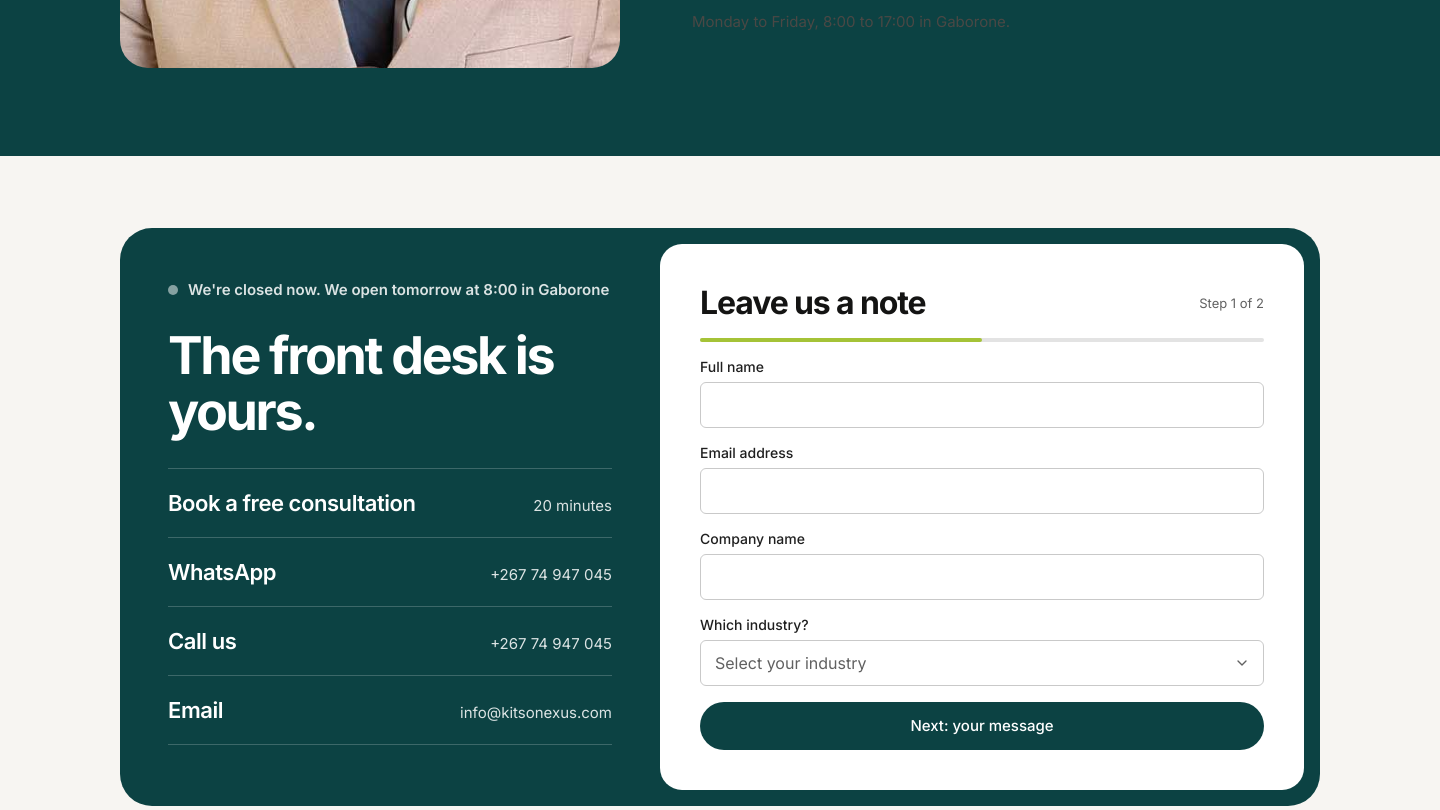
Contact page › says what's wrong beside the box, instead of a dead-end 'didn't send' (owner, 9 Nov 2026)
The width and height of the screenshot is (1440, 810).
(page scrolled)
Type "Neo Molefe" into the field labelled "Full name" at (982, 405), box [700,382,1264,428]
Type "a@b" into the field labelled "Email address" at (982, 491), box [700,468,1264,514]
Type "-" into the field labelled "Company name" at (982, 577), box [700,554,1264,600]
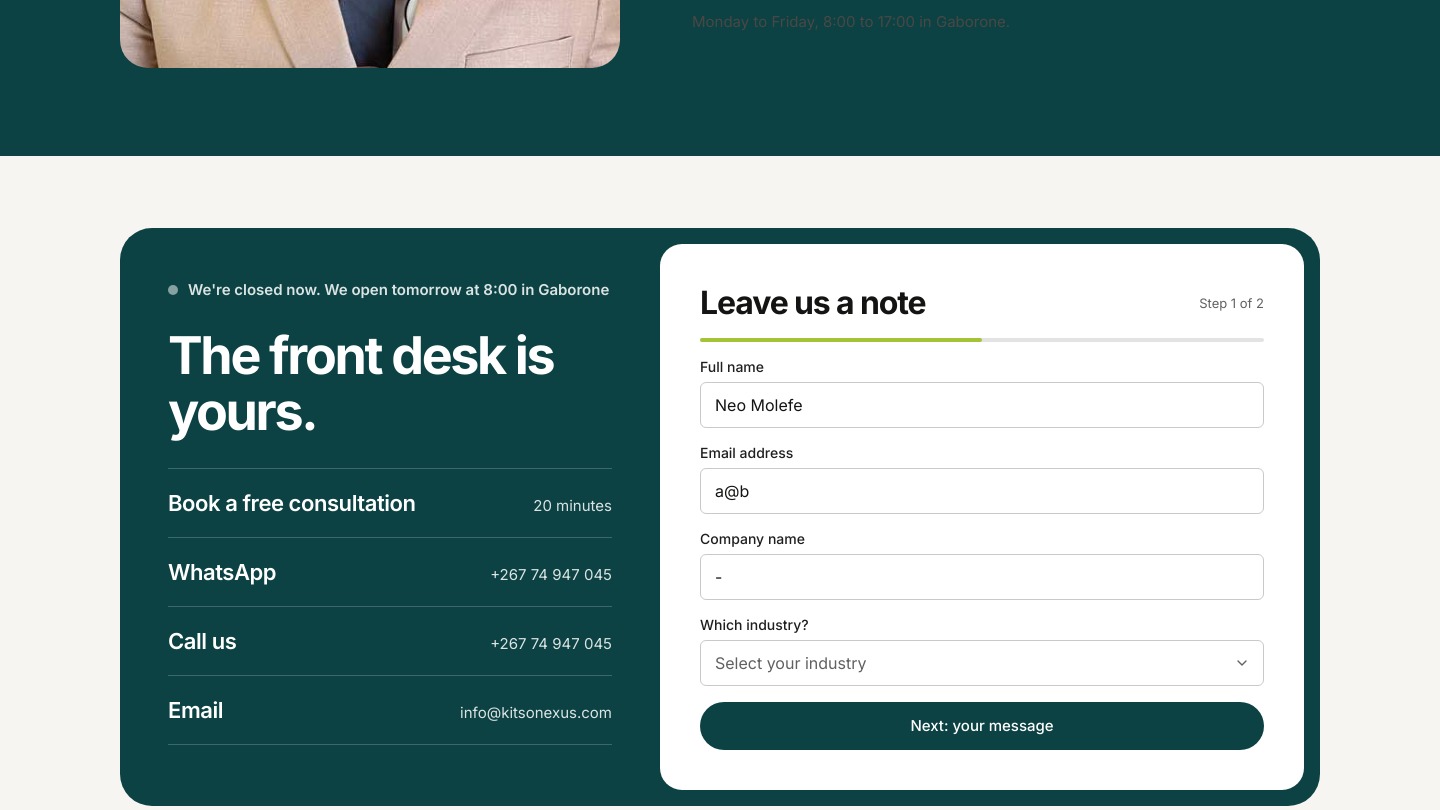
Click the button "Next: your message" at (982, 726), box [700,702,1264,750]
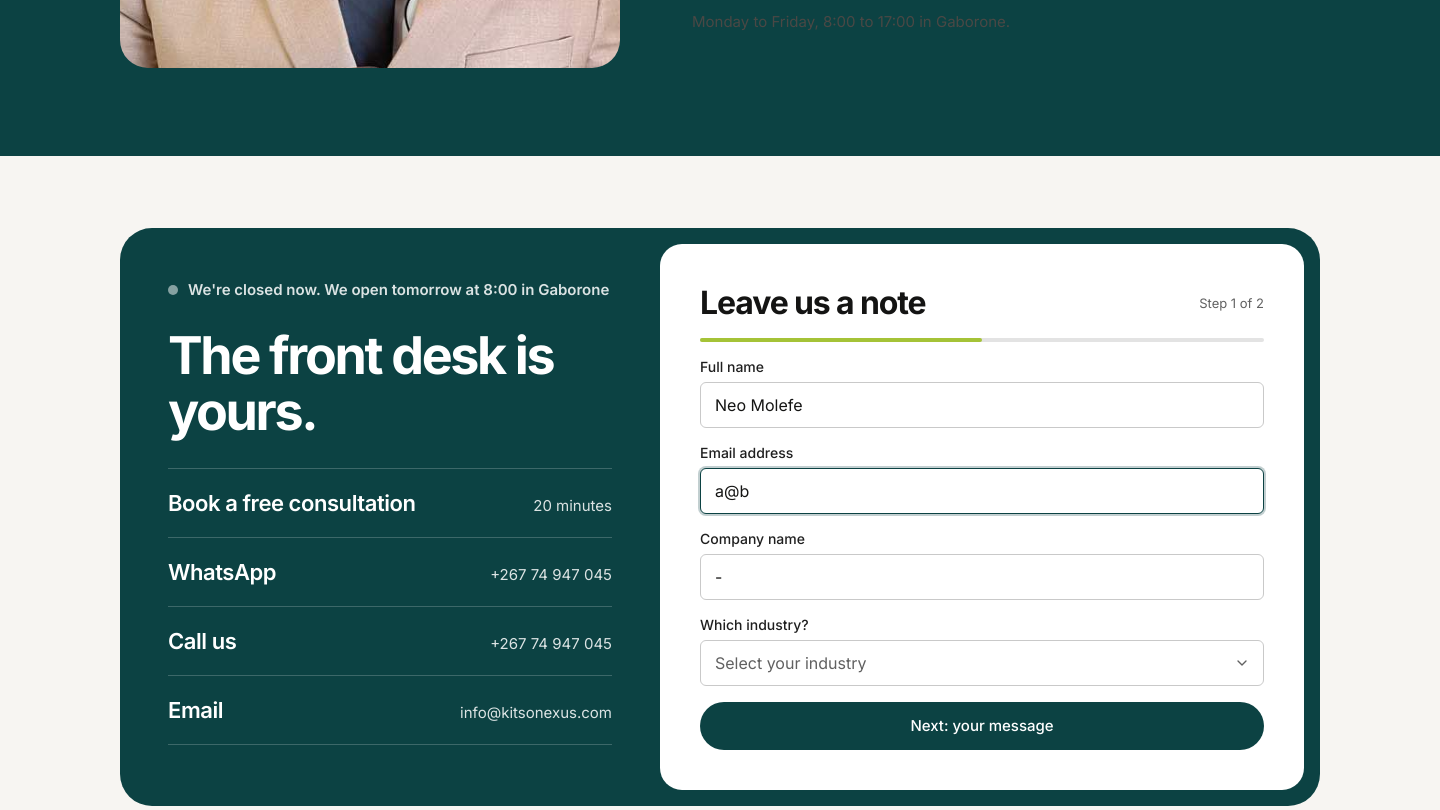
Check: the text "Step 1 of 2" is shown, box [1199,295,1264,311]
Replace the text in the field labelled "Email address" with "neo@example.co.bw" at (982, 491), box [700,468,1264,514]
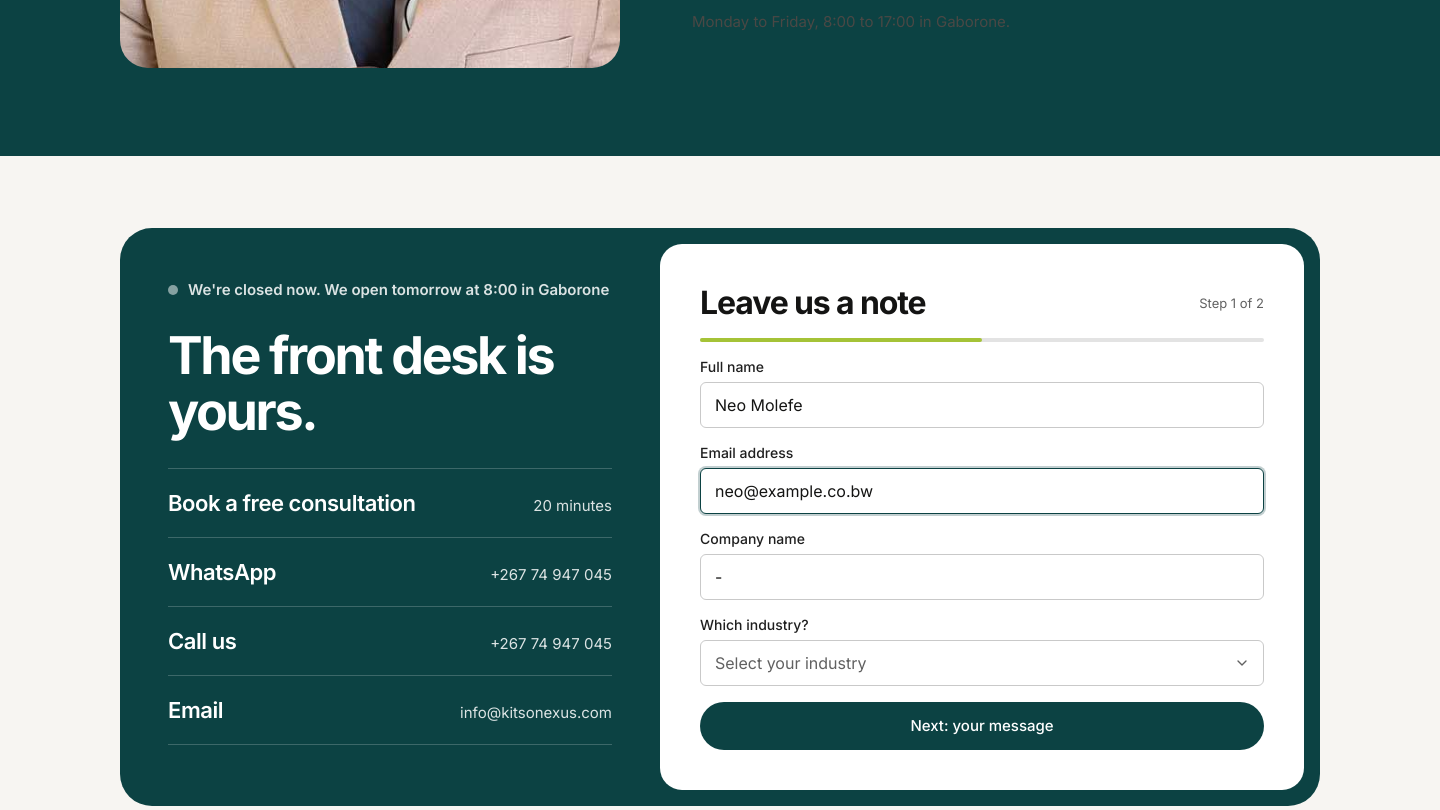
Click the button "Next: your message" at (982, 726), box [700,702,1264,750]
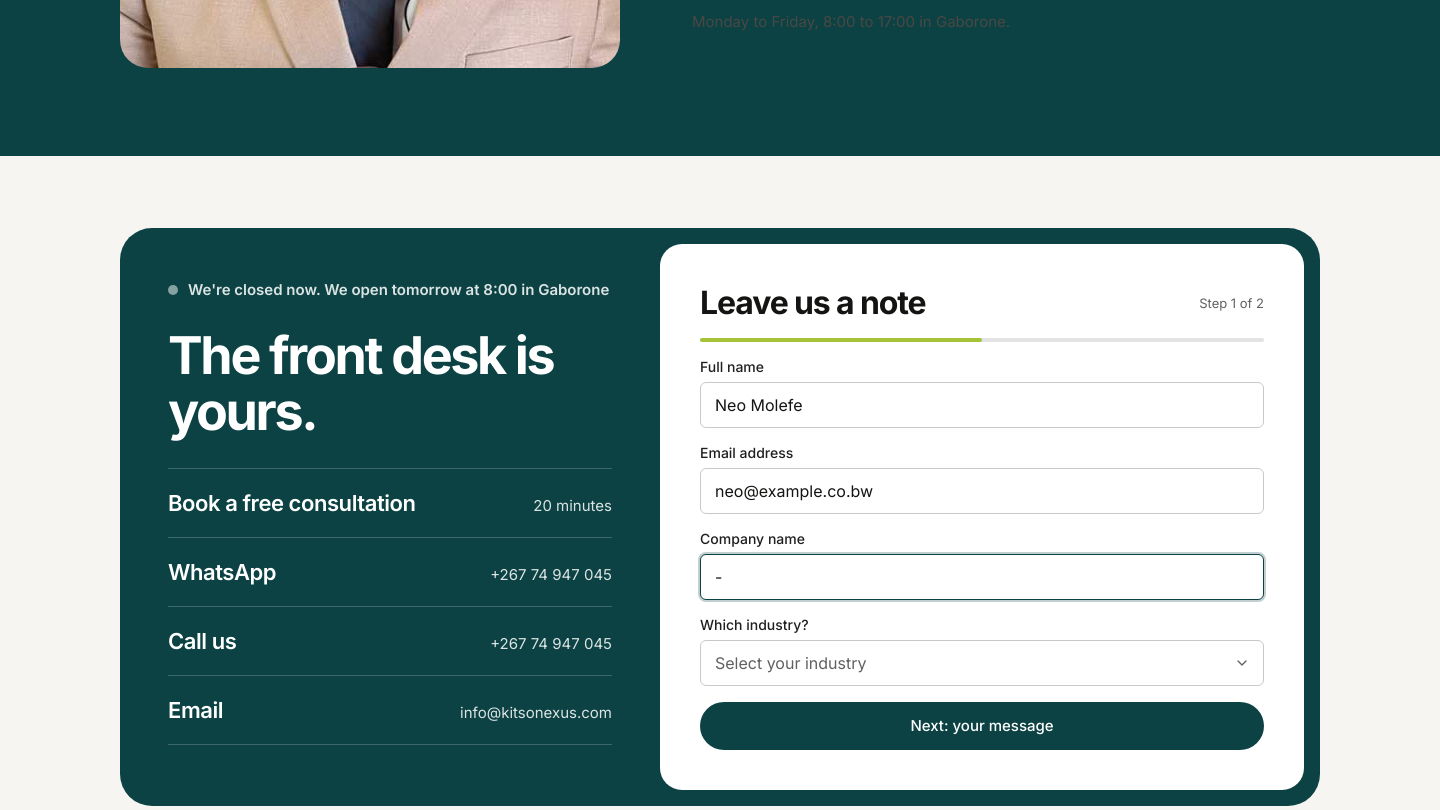
Clear the field labelled "Company name" at (982, 577), box [700,554,1264,600]
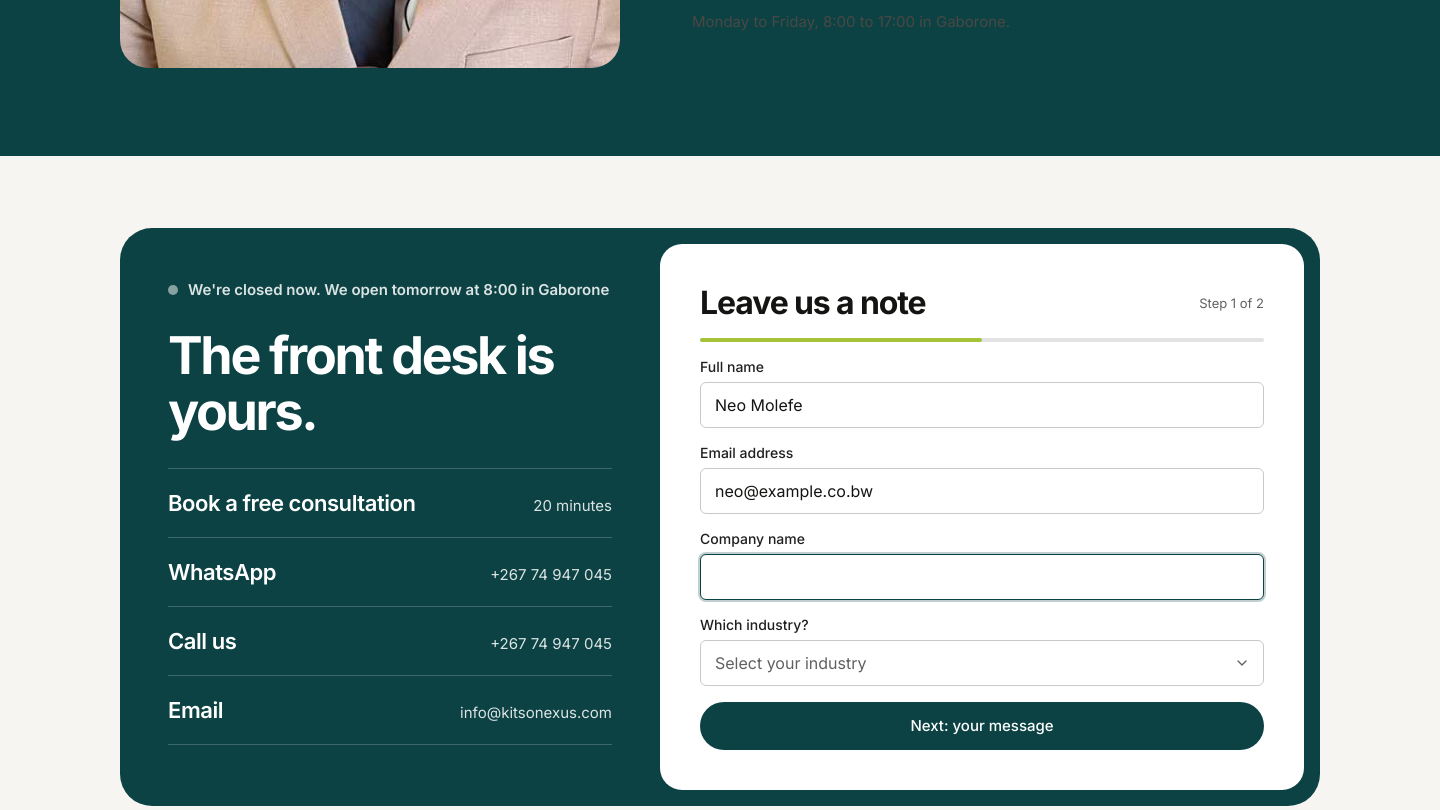
Click the button "Next: your message" at (982, 726), box [700,702,1264,750]
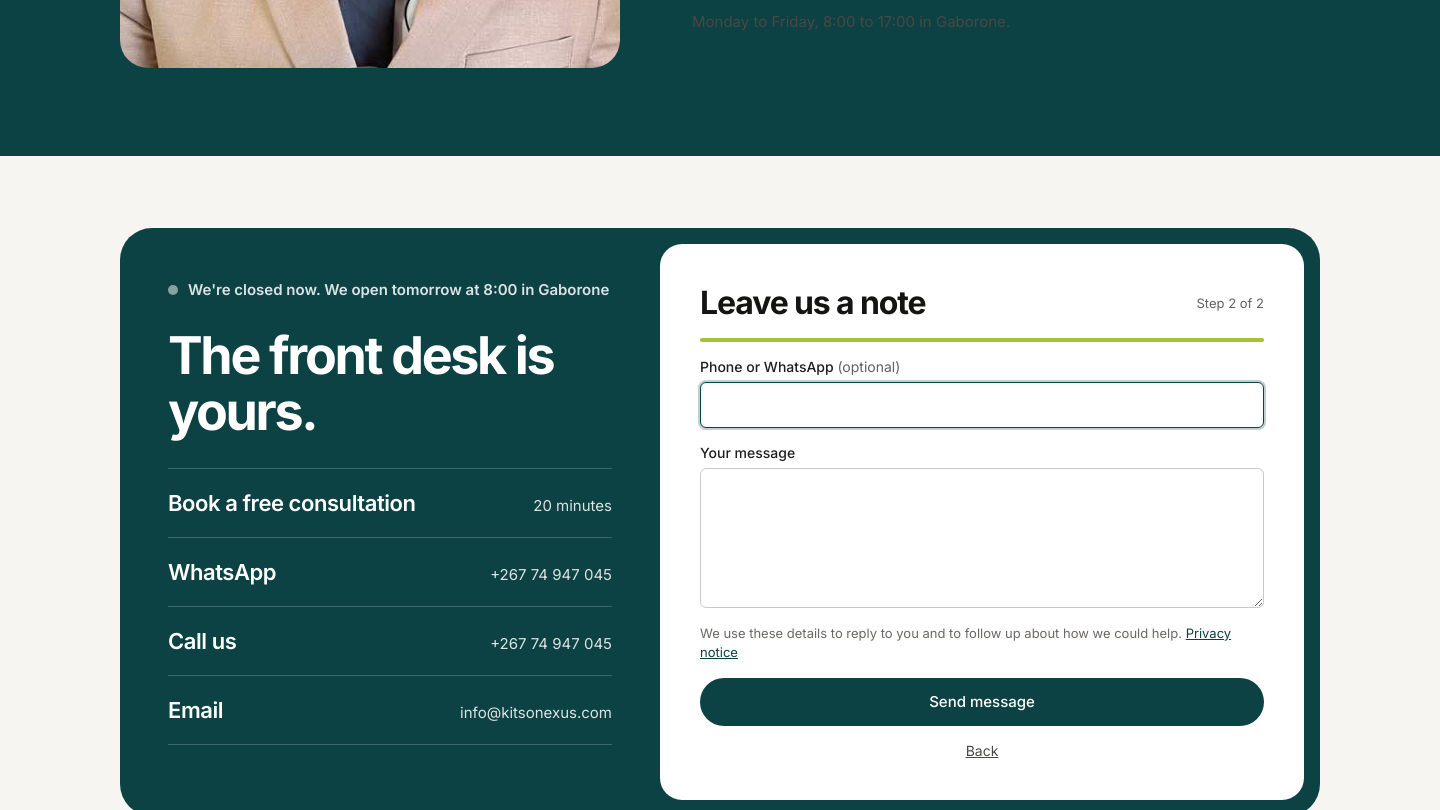
Check: the text "Step 2 of 2" is shown, box [1196,295,1264,311]
